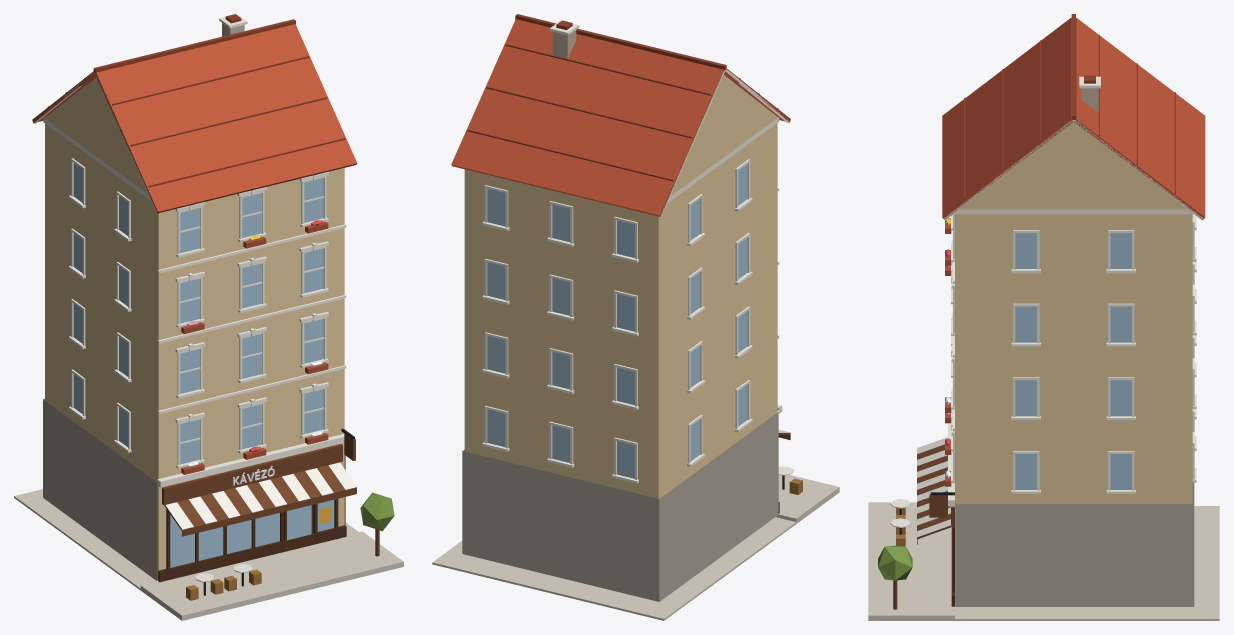
Rendered from Dukkan_genel_kavezo_Hafif.fbx.
3 views of the same model, side by side, from view 1: azimuth 30°, elevation 25°; view 2: azimuth 150°, elevation 25°; view 3: azimuth 270°, elevation 25° (orthographic). The views are drawn at different scales.
Visible parts, largest first — view 1: Dukkan_genel_kavezo_Hafif; view 2: Dukkan_genel_kavezo_Hafif; view 3: Dukkan_genel_kavezo_Hafif.
Part boxes in pixels (x1,y1,x2,y2): Dukkan_genel_kavezo_Hafif: (14,14,403,620); Dukkan_genel_kavezo_Hafif: (432,14,839,620); Dukkan_genel_kavezo_Hafif: (868,14,1219,620).
Bounding box in the file's own units: 9.93 × 20.78 × 12.98.
